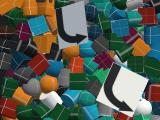Left: (96, 62, 148, 118), (55, 1, 89, 50)
